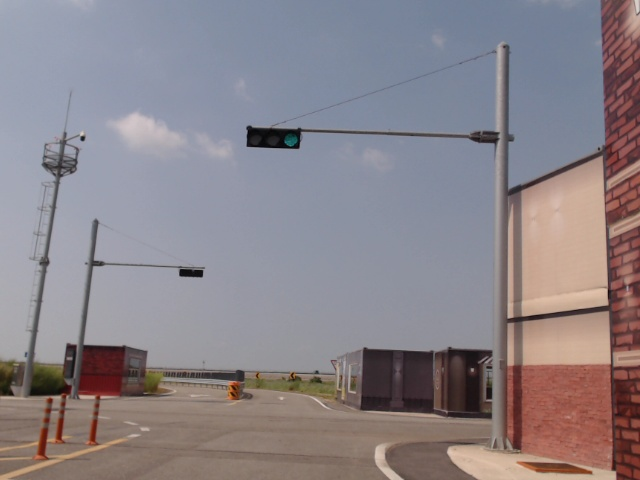green_3: (247, 129, 301, 149)
